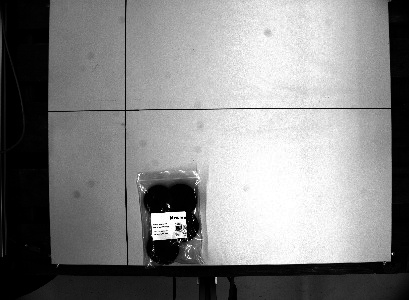t1: (134, 163, 207, 271)
